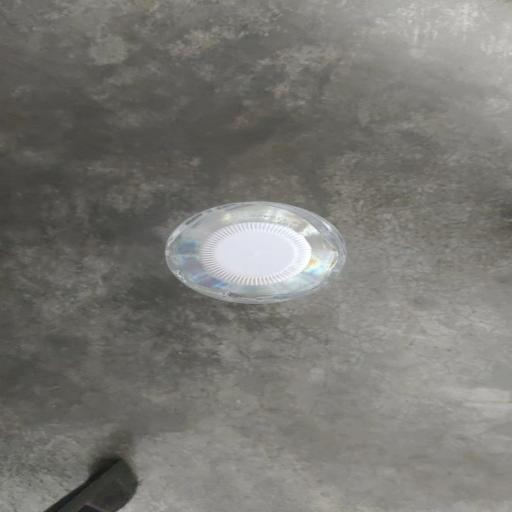plastic bottle: (163, 199, 352, 305)
plastic bottle cap: (195, 224, 316, 285)
